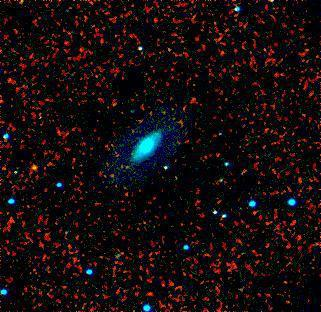star: (19, 154, 49, 184)
